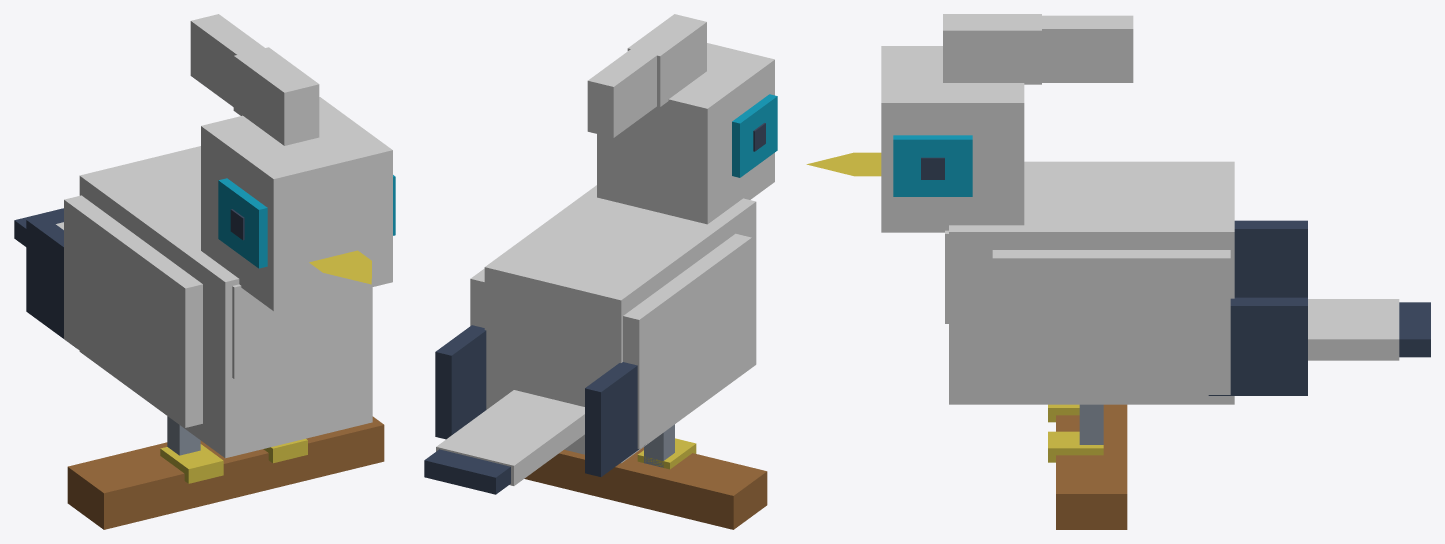
File: jalak_bali.glb
3 renders of one model, left to right at view 1: azimuth 30°, elevation 25°; view 2: azimuth 150°, elevation 25°; view 3: azimuth 270°, elevation 25°, orthographic. The views are drawn at different scales.
Parts seen in each view (by area): view 1: jalak_bali; view 2: jalak_bali; view 3: jalak_bali.
Boxes of the visible parts, <box> form: jalak_bali: <box>14,14,395,529</box>; jalak_bali: <box>424,14,777,529</box>; jalak_bali: <box>806,14,1430,529</box>.
Bounding box in the file's own units: 0.8 × 1.22 × 1.58.
